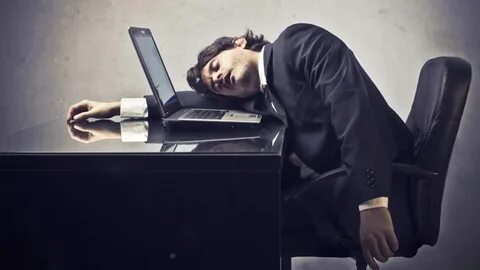sleep: (66, 22, 370, 130)
